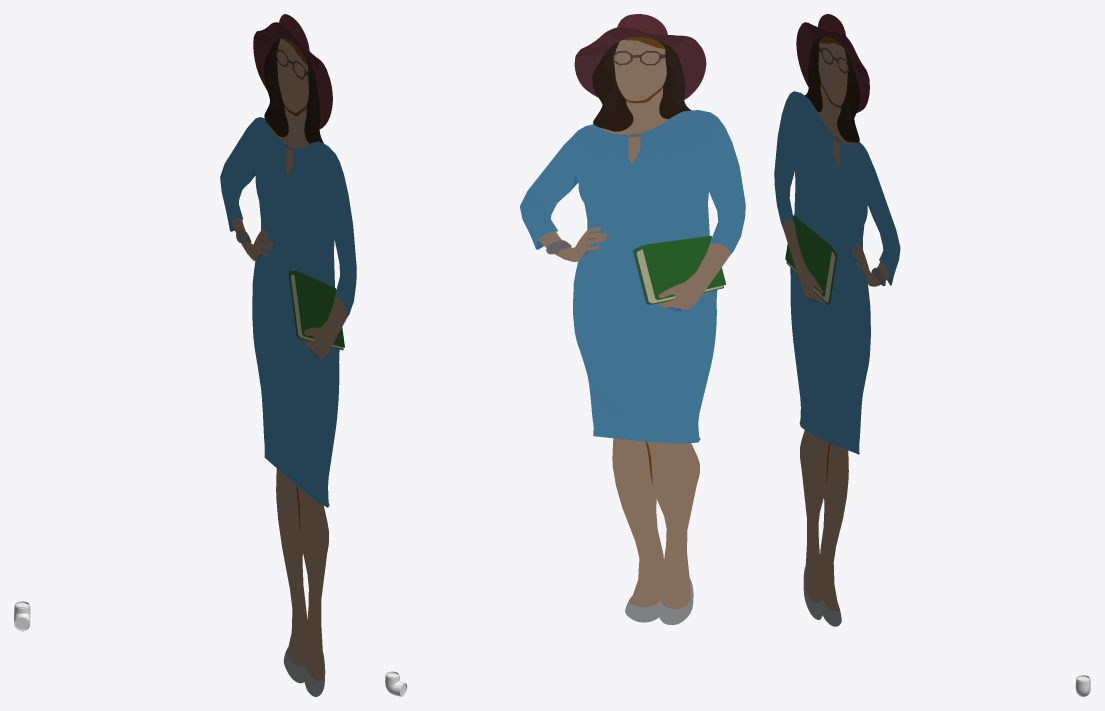
File: joint5_new.dae
The picture shows the model from 3 angles, left to right: view 1: azimuth 90°, elevation 25°; view 2: azimuth 150°, elevation 25°; view 3: azimuth 270°, elevation 25°; orthographic projection. The views are drawn at different scales.
Parts seen in each view (by area): view 1: Teddy (×11); view 2: Teddy (×18); view 3: Teddy (×11).
Part boxes in pixels (x1,y1,x2,y2): Teddy (×11): (220, 48, 356, 696); Teddy (×18): (520, 14, 745, 624); Teddy (×11): (774, 22, 900, 626).
Size of the model in its own units: 24.39 by 32.29 by 70.02.
